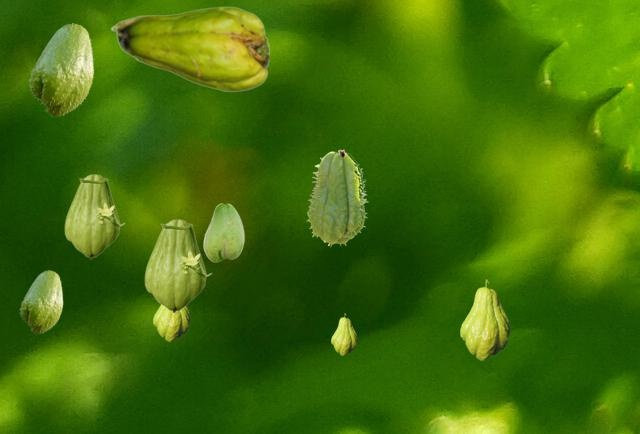sayote: (110, 6, 268, 91), (144, 219, 211, 312), (28, 23, 93, 116), (306, 149, 367, 246), (64, 174, 124, 258), (460, 279, 509, 359), (19, 270, 62, 333), (203, 203, 243, 261), (153, 305, 189, 340), (331, 313, 356, 354)
